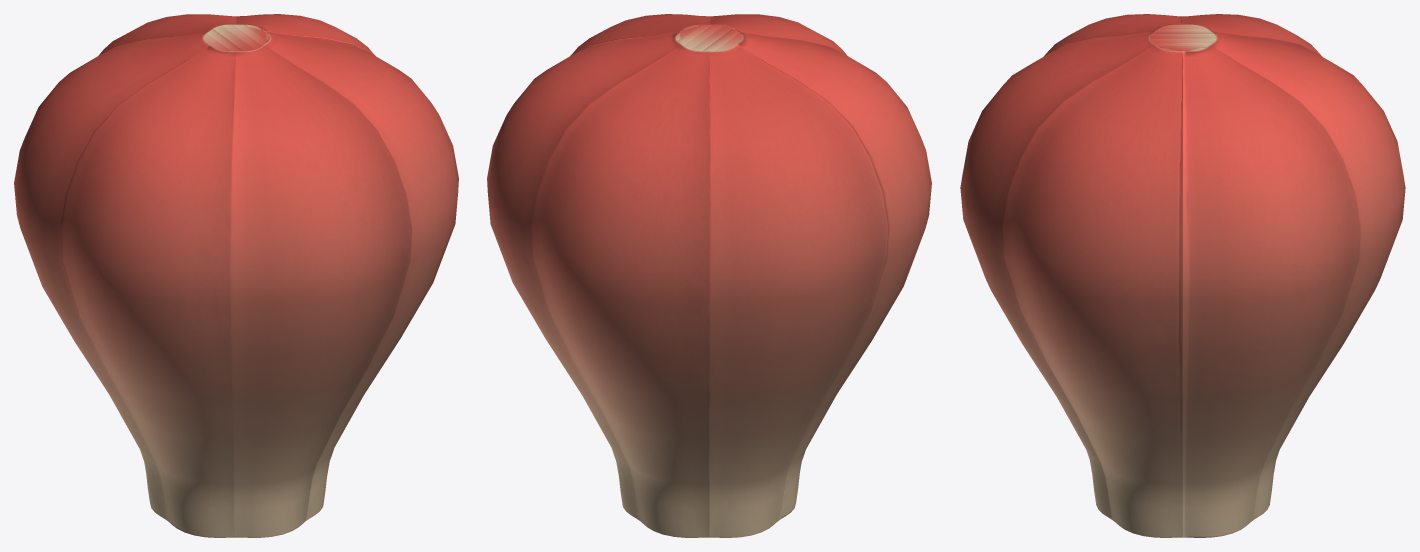
File: Lantern.fbx
3 renders of one model, left to right at view 1: azimuth 30°, elevation 25°; view 2: azimuth 150°, elevation 25°; view 3: azimuth 270°, elevation 25°, orthographic.
Parts seen in each view (by area): view 1: Loft; view 2: Loft; view 3: Loft.
Boxes of the visible parts, x1=… form: Loft: x1=14, y1=14, x2=458, y2=537; Loft: x1=487, y1=14, x2=931, y2=537; Loft: x1=960, y1=14, x2=1405, y2=537.
Bounding box in the file's own units: 691 × 849 × 736.
1 material, 1 textured.
